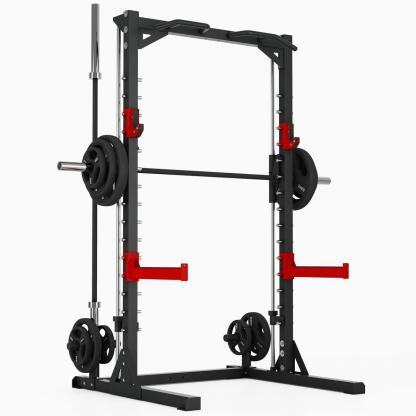smith machine: (58, 3, 365, 411)
